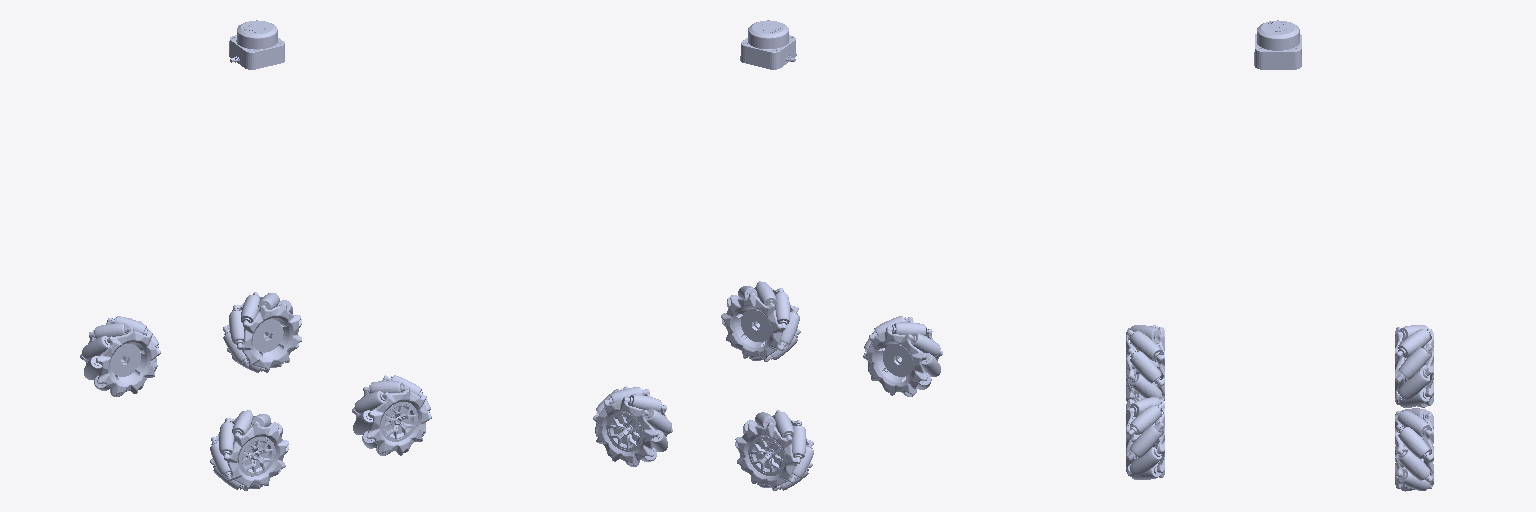
The robot description file, URDF, robot "mecanum.URDF":
<?xml version="1.0" encoding="utf-8"?>
<!-- This URDF was automatically created by SolidWorks to URDF Exporter! Originally created by Stephen Brawner (brawner@gmail.com) 
     Commit Version: 1.6.0-4-g7f85cfe  Build Version: 1.6.7995.38578
     For more information, please see http://wiki.ros.org/sw_urdf_exporter -->
<robot
  name="mecanum.URDF">
  <link
    name="base_link">
    <inertial>
      <origin
        xyz="0.0144649902126464 0.00376362033932615 0.15004997894845"
        rpy="0 0 0" />
      <mass
        value="2.02726372625035" />
      <inertia
        ixx="0.0291204836638888"
        ixy="3.4774793096243E-06"
        ixz="7.27968780837066E-05"
        iyy="0.0195479980882048"
        iyz="2.85369823027593E-06"
        izz="0.0363274654900927" />
    </inertial>
    <visual>
      <origin
        xyz="0 0 0"
        rpy="0 0 0" />
      <geometry>
        <mesh
          filename="package://mecanum.URDF/meshes/base_link.STL" />
      </geometry>
      <material
        name="">
        <color
          rgba="0.792156862745098 0.819607843137255 0.933333333333333 1" />
      </material>
    </visual>
    <collision>
      <origin
        xyz="0 0 0"
        rpy="0 0 0" />
      <geometry>
        <mesh
          filename="package://mecanum.URDF/meshes/base_link.STL" />
      </geometry>
    </collision>
  </link>
  <link
    name="link_left_forward">
    <inertial>
      <origin
        xyz="-2.4092E-07 -2.2609E-06 -0.016902"
        rpy="0 0 0" />
      <mass
        value="1.0289" />
      <inertia
        ixx="0.00017761"
        ixy="-8.6231E-09"
        ixz="1.3549E-08"
        iyy="0.00017755"
        iyz="-1.714E-09"
        izz="0.00022365" />
    </inertial>
    <visual>
      <origin
        xyz="0 0 0"
        rpy="0 0 0" />
      <geometry>
        <mesh
          filename="package://mecanum.URDF/meshes/link_left_forward.STL" />
      </geometry>
      <material
        name="">
        <color
          rgba="0.79216 0.81961 0.93333 1" />
      </material>
    </visual>
    <collision>
      <origin
        xyz="0 0 0"
        rpy="0 0 0" />
      <geometry>
        <mesh
          filename="package://mecanum.URDF/meshes/link_left_forward.STL" />
      </geometry>
    </collision>
  </link>
  <joint
    name="joint_left_forward"
    type="continuous">
    <origin
      xyz="0.10076 0.17937 -0.048"
      rpy="-1.5708 0 0" />
    <parent
      link="base_link" />
    <child
      link="link_left_forward" />
    <axis
      xyz="0 0 1" />
    <dynamics
      damping="0.1"
      friction="0.1" />
  </joint>
  <link
    name="link_right_forward">
    <inertial>
      <origin
        xyz="-1.15944071785168E-06 1.94315963179814E-06 0.0187991625010206"
        rpy="0 0 0" />
      <mass
        value="1.0288747294438" />
      <inertia
        ixx="0.000177596442284855"
        ixy="2.9913167396866E-08"
        ixz="1.17910859186034E-08"
        iyy="0.000177560831461893"
        iyz="6.76025811429809E-09"
        izz="0.00022365205769041" />
    </inertial>
    <visual>
      <origin
        xyz="0 0 0"
        rpy="0 0 0" />
      <geometry>
        <mesh
          filename="package://mecanum.URDF/meshes/link_right_forward.STL" />
      </geometry>
      <material
        name="">
        <color
          rgba="0.792156862745098 0.819607843137255 0.933333333333333 1" />
      </material>
    </visual>
    <collision>
      <origin
        xyz="0 0 0"
        rpy="0 0 0" />
      <geometry>
        <mesh
          filename="package://mecanum.URDF/meshes/link_right_forward.STL" />
      </geometry>
    </collision>
  </link>
  <joint
    name="joint_right_forward"
    type="continuous">
    <origin
      xyz="0.10056 -0.17133 -0.034"
      rpy="-1.5708 0 0" />
    <parent
      link="base_link" />
    <child
      link="link_right_forward" />
    <axis
      xyz="0 0 1" />
    <dynamics
      damping="0.1"
      friction="0.1" />
  </joint>
  <link
    name="link_left_backward">
    <inertial>
      <origin
        xyz="9.69495234093287E-10 -2.17277140207583E-06 -0.0168417584518273"
        rpy="0 0 0" />
      <mass
        value="1.0288765862267" />
      <inertia
        ixx="0.000177613239530328"
        ixy="3.79131599000761E-12"
        ixz="-1.36673725086091E-08"
        iyy="0.000177544104734518"
        iyz="2.47251068535204E-10"
        izz="0.000223652072516589" />
    </inertial>
    <visual>
      <origin
        xyz="0 0 0"
        rpy="0 0 0" />
      <geometry>
        <mesh
          filename="package://mecanum.URDF/meshes/link_left_backward.STL" />
      </geometry>
      <material
        name="">
        <color
          rgba="0.792156862745098 0.819607843137255 0.933333333333333 1" />
      </material>
    </visual>
    <collision>
      <origin
        xyz="0 0 0"
        rpy="0 0 0" />
      <geometry>
        <mesh
          filename="package://mecanum.URDF/meshes/link_left_backward.STL" />
      </geometry>
    </collision>
  </link>
  <joint
    name="joint_left_backward"
    type="continuous">
    <origin
      xyz="-0.099556 0.17937 -0.034"
      rpy="-1.5708 0 0" />
    <parent
      link="base_link" />
    <child
      link="link_left_backward" />
    <axis
      xyz="0 0 1" />
    <dynamics
      damping="0.1"
      friction="0.1" />
  </joint>
  <link
    name="link_right_backward">
    <inertial>
      <origin
        xyz="-1.09458847744048E-06 2.11525598863005E-06 0.0169021973059351"
        rpy="0 0 0" />
      <mass
        value="1.02887816321964" />
      <inertia
        ixx="0.000177600547991844"
        ixy="2.74032957658239E-08"
        ixz="-1.23928071276577E-08"
        iyy="0.000177559521959188"
        iyz="-5.72410157339633E-09"
        izz="0.000223654742487111" />
    </inertial>
    <visual>
      <origin
        xyz="0 0 0"
        rpy="0 0 0" />
      <geometry>
        <mesh
          filename="package://mecanum.URDF/meshes/link_right_backward.STL" />
      </geometry>
      <material
        name="">
        <color
          rgba="0.792156862745098 0.819607843137255 0.933333333333333 1" />
      </material>
    </visual>
    <collision>
      <origin
        xyz="0 0 0"
        rpy="0 0 0" />
      <geometry>
        <mesh
          filename="package://mecanum.URDF/meshes/link_right_backward.STL" />
      </geometry>
    </collision>
  </link>
  <joint
    name="joint_right_backward"
    type="continuous">
    <origin
      xyz="-0.099756 -0.16937 -0.034"
      rpy="-1.5708 0 0" />
    <parent
      link="base_link" />
    <child
      link="link_right_backward" />
    <axis
      xyz="0 0 1" />
    <limit
      lower="0"
      upper="0"
      effort="0"
      velocity="0" />
    <dynamics
      damping="0.1"
      friction="0.1" />
  </joint>
  <link
    name="link_rplidarC1">
    <inertial>
      <origin
        xyz="-7.7483134161116E-05 4.39404931884546E-08 -0.00463836343800561"
        rpy="0 0 0" />
      <mass
        value="0.102513133341545" />
      <inertia
        ixx="3.50509935231941E-05"
        ixy="-8.89681257023995E-11"
        ixz="-1.05223539141941E-07"
        iyy="3.53118176810964E-05"
        iyz="1.23220167027386E-11"
        izz="4.34973473742488E-05" />
    </inertial>
    <visual>
      <origin
        xyz="0 0 0"
        rpy="0 0 0" />
      <geometry>
        <mesh
          filename="package://mecanum.URDF/meshes/link_rplidarC1.STL" />
      </geometry>
      <material
        name="">
        <color
          rgba="0.792156862745098 0.819607843137255 0.933333333333333 1" />
      </material>
    </visual>
    <collision>
      <origin
        xyz="0 0 0"
        rpy="0 0 0" />
      <geometry>
        <mesh
          filename="package://mecanum.URDF/meshes/link_rplidarC1.STL" />
      </geometry>
    </collision>
  </link>
  <joint
    name="joint_rplidarC1"
    type="fixed">
    <origin
      xyz="0.001 0.003 0.431"
      rpy="0 0 0" />
    <parent
      link="base_link" />
    <child
      link="link_rplidarC1" />
    <axis
      xyz="0 0 0" />
    <dynamics
      damping="0.1"
      friction="0.1" />
  </joint>
</robot>

--- Render facts (derived) ---
The picture shows the robot from 3 angles, left to right: view 1: azimuth 30°, elevation 25°; view 2: azimuth 150°, elevation 25°; view 3: azimuth 270°, elevation 25°; orthographic projection.
Robot: mecanum.URDF — 6 links, 5 joints (4 continuous, 1 fixed); root link base_link; default pose: all joints at 0.
Visible links, largest first — view 1: link_right_backward, link_left_forward, link_right_forward, link_left_backward, link_rplidarC1; view 2: link_left_backward, link_right_forward, link_left_forward, link_right_backward, link_rplidarC1; view 3: link_right_forward, link_left_backward, link_left_forward, link_right_backward, link_rplidarC1.
Link boxes in pixels (bbox=[...]): link_right_backward: bbox=[210, 410, 288, 490]; link_left_forward: bbox=[223, 292, 301, 372]; link_right_forward: bbox=[352, 375, 431, 455]; link_left_backward: bbox=[80, 316, 160, 396]; link_rplidarC1: bbox=[229, 20, 284, 69]; link_left_backward: bbox=[735, 410, 813, 490]; link_right_forward: bbox=[721, 281, 800, 361]; link_left_forward: bbox=[593, 386, 672, 466]; link_right_backward: bbox=[863, 316, 942, 396]; link_rplidarC1: bbox=[740, 20, 796, 69]; link_right_forward: bbox=[1126, 397, 1164, 479]; link_left_backward: bbox=[1395, 325, 1433, 407]; link_left_forward: bbox=[1395, 408, 1433, 491]; link_right_backward: bbox=[1126, 325, 1164, 400]; link_rplidarC1: bbox=[1254, 20, 1301, 69].
Size in the robot's own frame: 0.2975 by 0.3595 by 0.5457 metres.
5 mesh visuals loaded from 6 distinct referenced files (5 binary STL); not drawn: 1 (reference not matched to a file when rendering).
